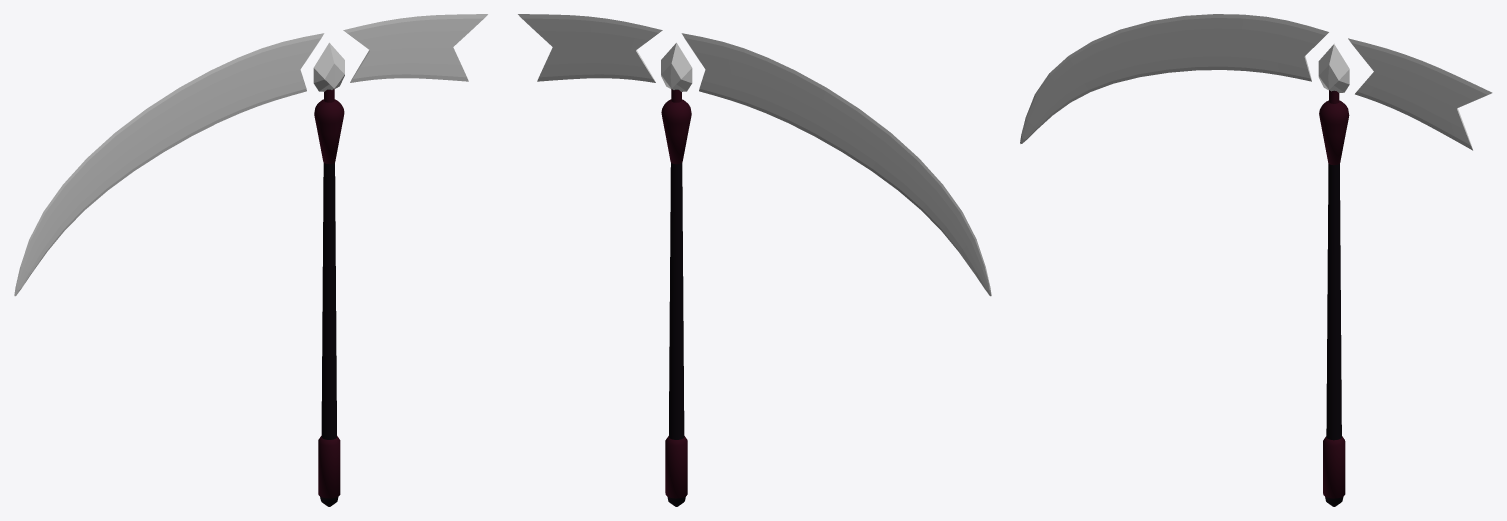
Rendered from reg.fbx.
The picture shows the model from 3 angles, left to right: view 1: azimuth 30°, elevation 25°; view 2: azimuth 150°, elevation 25°; view 3: azimuth 330°, elevation 25°; orthographic projection.
Parts seen in each view (by area): view 1: Blade, Handle (×2), Hilt, Gem; view 2: Blade, Handle (×2), Hilt, Gem; view 3: Blade, Handle (×2), Hilt, Gem.
Part boxes in pixels (x1,y1,x2,y2): Blade: (14,14,487,296); Handle (×2): (314,89,344,439); Hilt: (318,436,340,498); Gem: (313,42,344,91); Blade: (518,14,991,296); Handle (×2): (661,89,691,439); Hilt: (665,436,687,498); Gem: (661,43,692,91); Blade: (1020,14,1492,150); Handle (×2): (1319,90,1349,440); Hilt: (1323,436,1345,498); Gem: (1318,44,1349,92).
Bounding box in the file's own units: 466 × 447 × 26.02.
